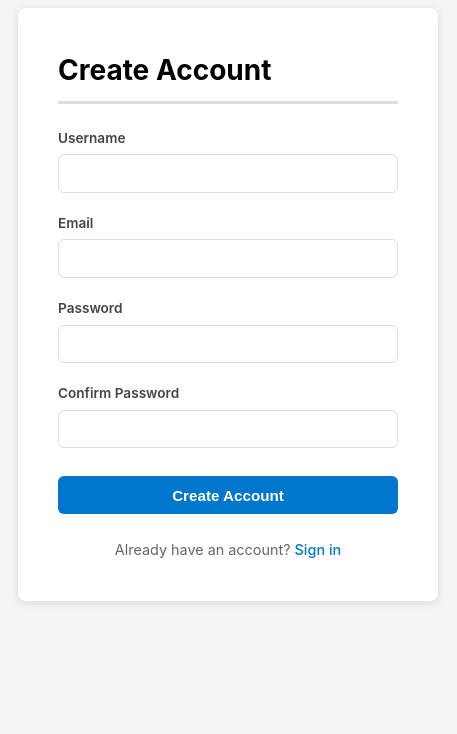
Test case: RegisterPage › shows a general error when the API returns a non-object error
This screenshot has width=457, height=734.
Type "alice" into the field labelled "Username". click: (228, 174)
box: [58,154,398,193]
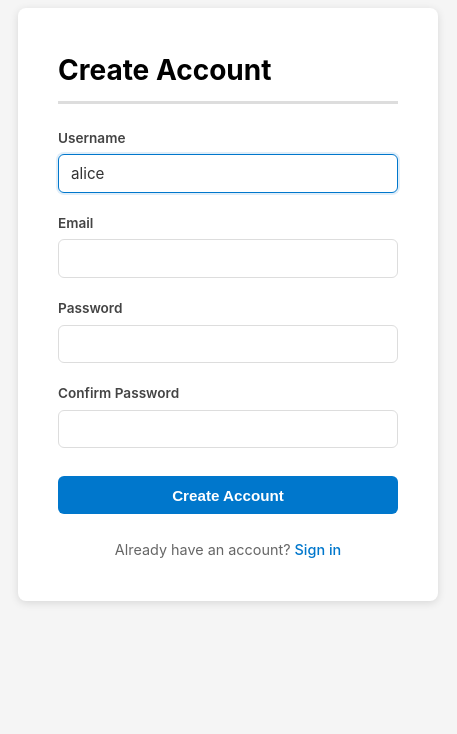
Type "alice@example.com" into the field labelled "Email". click: (228, 259)
box: [58,240,398,278]
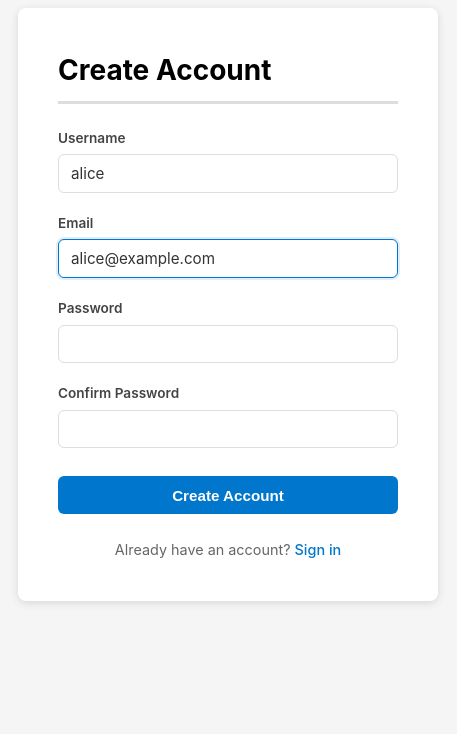
Type "StrongPass123!" into the password field labelled "Password". click: (228, 344)
box: [58,325,398,363]
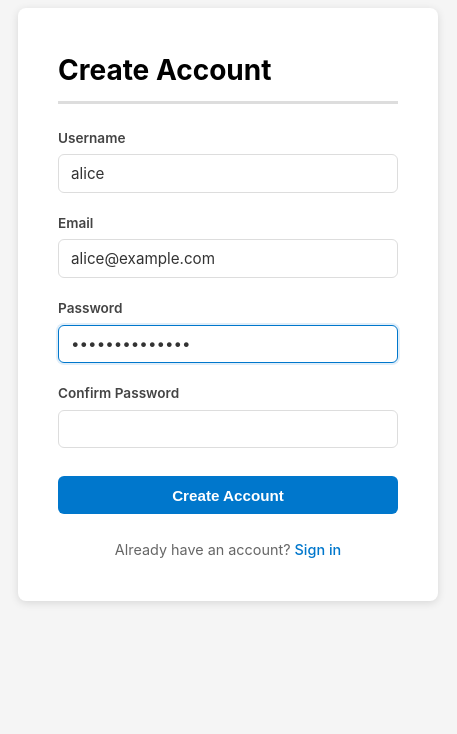
Type "StrongPass123!" into the password field labelled "Confirm Password". click: (228, 429)
box: [58,410,398,448]
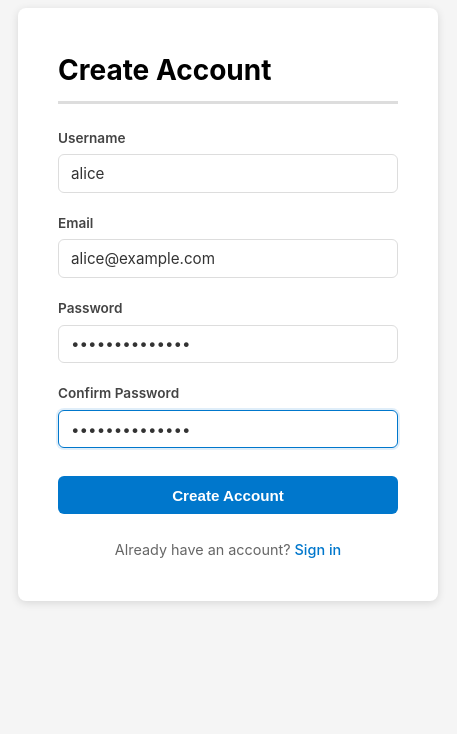
Click the button "Create Account". click: (228, 495)
box: [58,476,398,514]
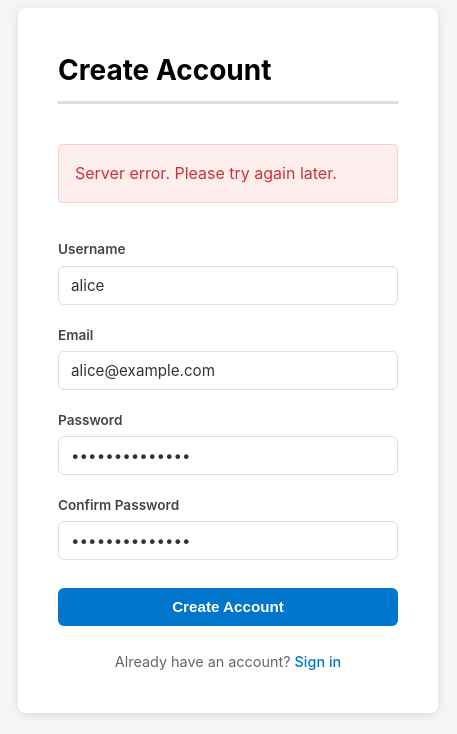
Check: the text "Server error. Please try again later." is shown, box [58,144,398,203]
